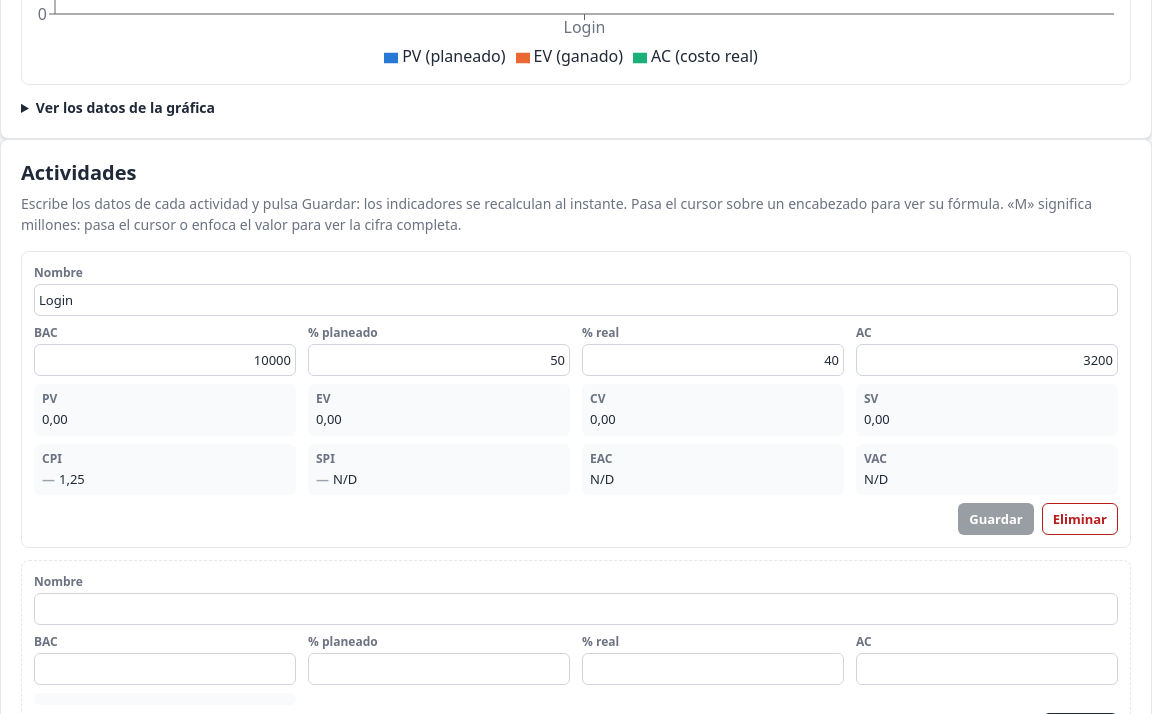
Test: ActivitiesTable › saves an edited row and refreshes the indicators from the backend
(page scrolled)
Expected: the button "Guardar" is disabled, [958,503,1034,535]
Step 1. Replace the text in the number field named "AC de Login" with "5000" → (987, 360), box [856,344,1118,376]
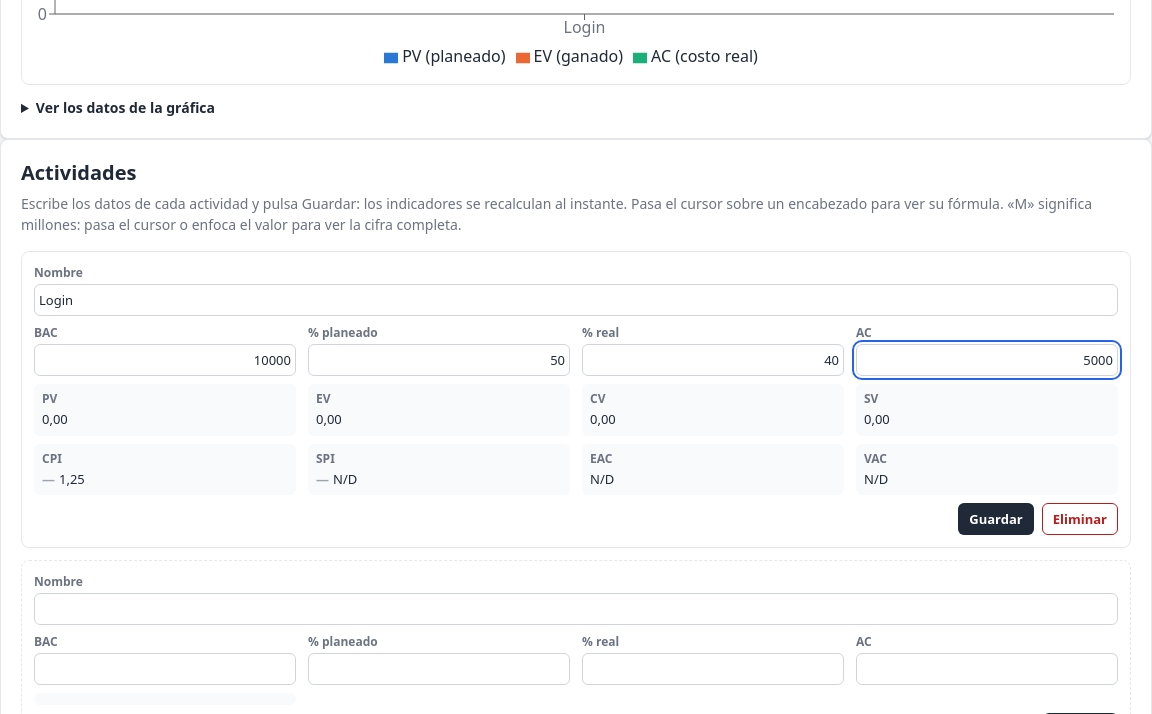
Step 2. Click the button "Guardar" → (996, 519), box [958,503,1034,535]
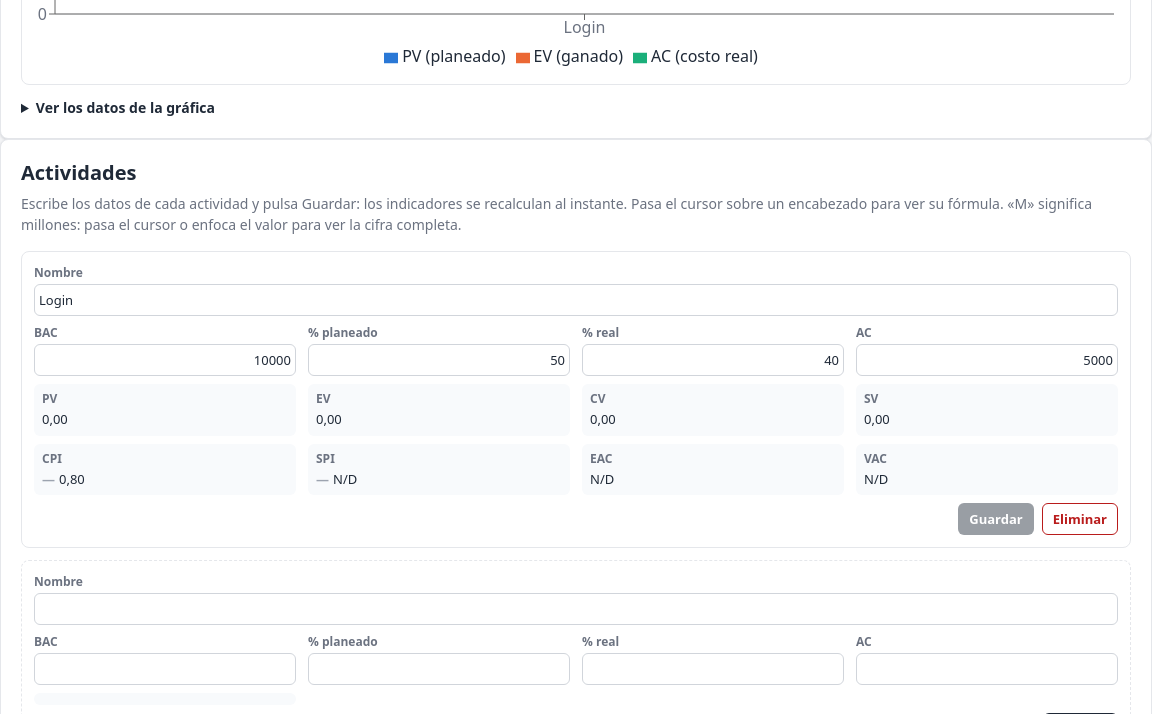
Now the text "0,80" is shown, box [59,470,85,489]
Now the button "Guardar" is disabled, box [958,503,1034,535]
